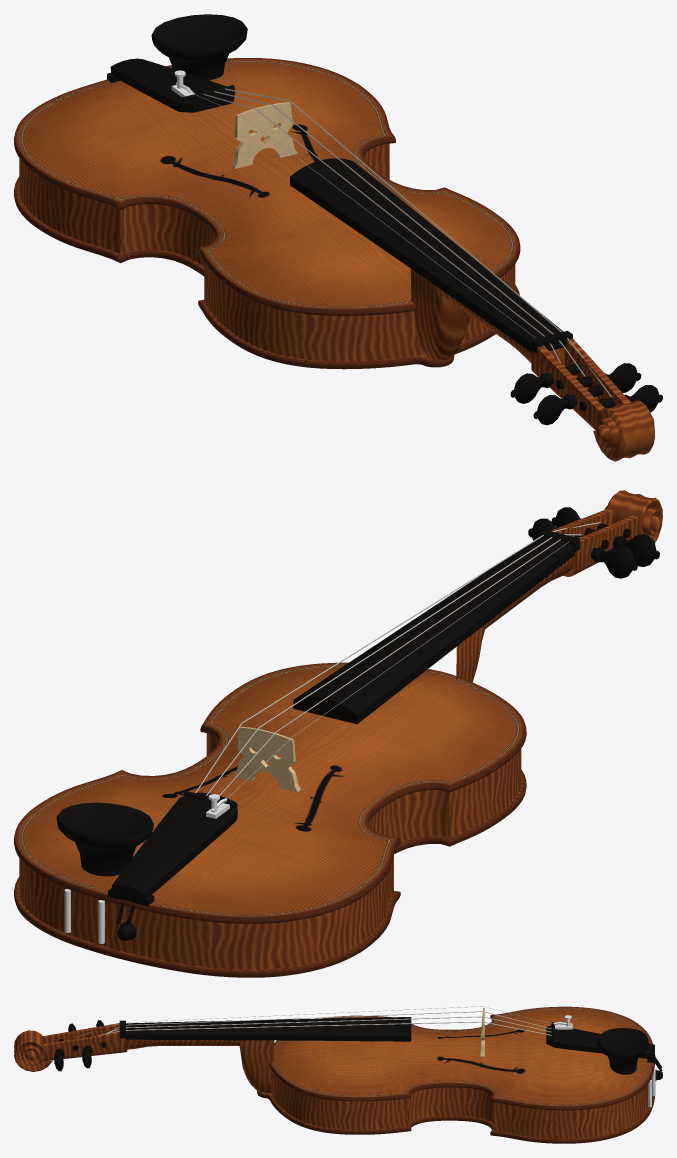
The model's file is violin.glb.
3 renders of one model, top to bottom at view 1: azimuth 30°, elevation 25°; view 2: azimuth 150°, elevation 25°; view 3: azimuth 270°, elevation 25°, orthographic. The views are drawn at different scales.
Parts seen in each view (by area): view 1: violin_varnish_plates, violin_varnish_maple, violin_ebony, violin_bridge_maple, violin_strings; view 2: violin_varnish_plates, violin_varnish_maple, violin_ebony, violin_strings, violin_bridge_maple, violin_silver; view 3: violin_varnish_plates, violin_varnish_maple, violin_ebony, violin_strings, violin_silver.
Boxes of the visible parts, x1=… form: violin_varnish_plates: x1=14, y1=58, x2=520, y2=369; violin_varnish_maple: x1=19, y1=143, x2=654, y2=461; violin_ebony: x1=107, y1=14, x2=662, y2=425; violin_bridge_maple: x1=231, y1=102, x2=297, y2=168; violin_strings: x1=191, y1=88, x2=611, y2=397; violin_varnish_plates: x1=14, y1=662, x2=526, y2=977; violin_varnish_maple: x1=19, y1=490, x2=662, y2=969; violin_ebony: x1=56, y1=507, x2=659, y2=940; violin_strings: x1=195, y1=522, x2=600, y2=798; violin_bridge_maple: x1=234, y1=726, x2=300, y2=792; violin_silver: x1=64, y1=794, x2=229, y2=943; violin_varnish_plates: x1=257, y1=1006, x2=655, y2=1143; violin_varnish_maple: x1=14, y1=1023, x2=651, y2=1138; violin_ebony: x1=54, y1=1017, x2=662, y2=1080; violin_strings: x1=74, y1=1006, x2=553, y2=1037; violin_silver: x1=554, y1=1015, x2=655, y2=1107.
Bounding box in the file's own units: 0.2186 × 0.0914 × 0.597.
Materials: 6 (3 with a texture image).
